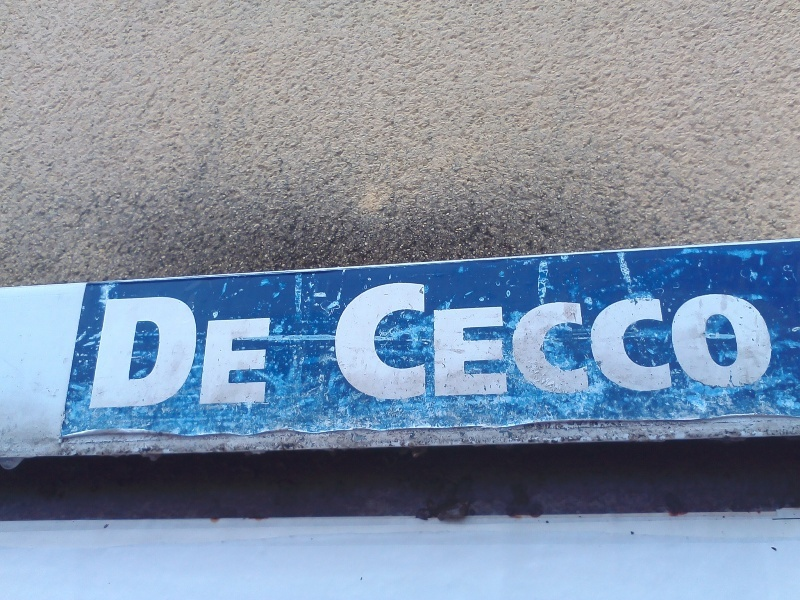text: (337, 272, 352, 404), (353, 272, 368, 404), (369, 272, 384, 404), (385, 272, 400, 404), (401, 272, 416, 404), (417, 272, 432, 404), (433, 272, 448, 404), (449, 272, 464, 404), (465, 272, 480, 404), (481, 272, 496, 404), (497, 272, 512, 404), (513, 272, 528, 404), (529, 272, 544, 404), (545, 272, 560, 404), (561, 272, 576, 404), (577, 272, 592, 404), (593, 272, 608, 404), (609, 272, 624, 404), (625, 272, 640, 404), (641, 272, 656, 404), (657, 272, 672, 404), (673, 272, 688, 404), (689, 272, 704, 404), (705, 272, 720, 404), (721, 272, 736, 404), (737, 272, 752, 404), (753, 272, 768, 404), (769, 272, 784, 404), (257, 295, 273, 411), (113, 295, 128, 411), (129, 295, 144, 411), (145, 295, 160, 411), (161, 295, 176, 411), (177, 295, 192, 411), (193, 295, 208, 411), (209, 295, 224, 411), (225, 295, 240, 411), (241, 295, 256, 411), (105, 295, 112, 411), (334, 272, 336, 404)
